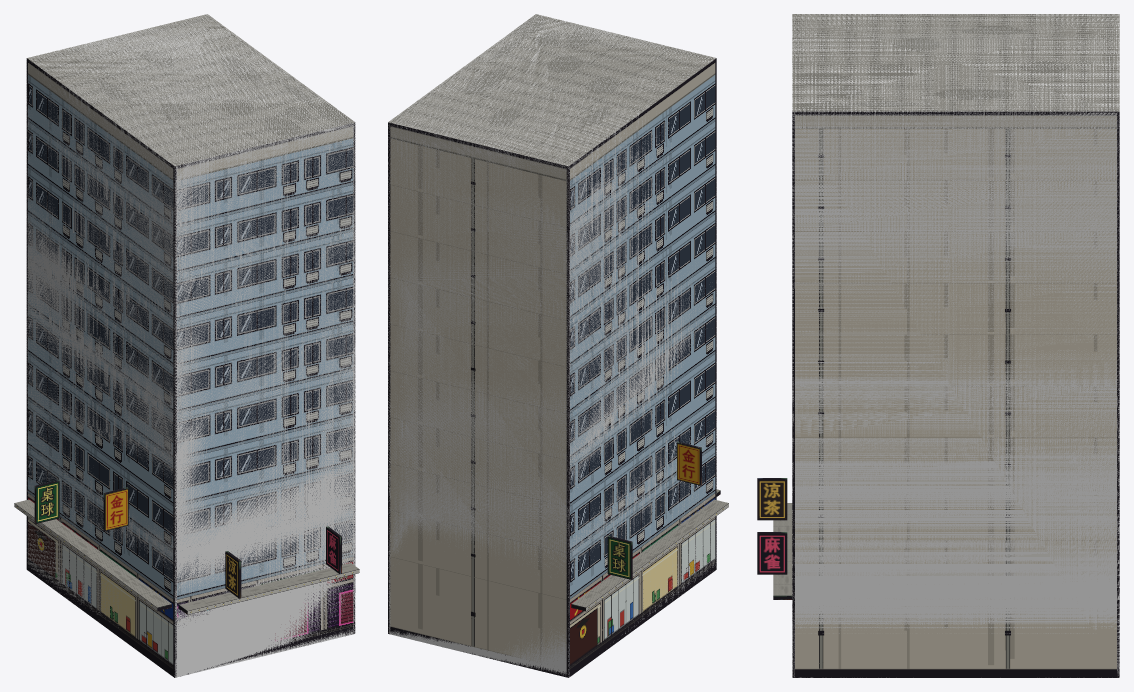
The picture shows the model from 3 angles, left to right: view 1: azimuth 30°, elevation 25°; view 2: azimuth 150°, elevation 25°; view 3: azimuth 270°, elevation 25°; orthographic projection. The views are drawn at different scales.
Parts seen in each view (by area): view 1: 19D-W04, COL_19D-W04_0; view 2: 19D-W04, COL_19D-W04_0; view 3: 19D-W04, COL_19D-W04_0.
Part boxes in pixels (x1,y1,x2,y2): 19D-W04: [14, 14, 359, 677]; COL_19D-W04_0: [26, 14, 355, 677]; 19D-W04: [388, 14, 728, 677]; COL_19D-W04_0: [388, 14, 716, 677]; 19D-W04: [757, 14, 1119, 677]; COL_19D-W04_0: [792, 14, 1119, 677].
Size of the model in its own units: 14.05 by 33 by 19.15.
1 material, 1 textured.
